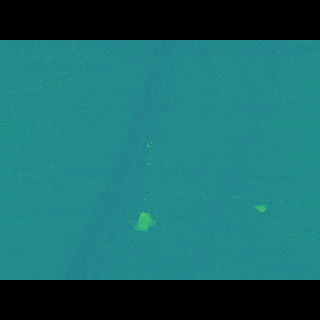Loch: (56, 70, 202, 250), (186, 68, 295, 245), (129, 194, 166, 216), (253, 189, 270, 202)
